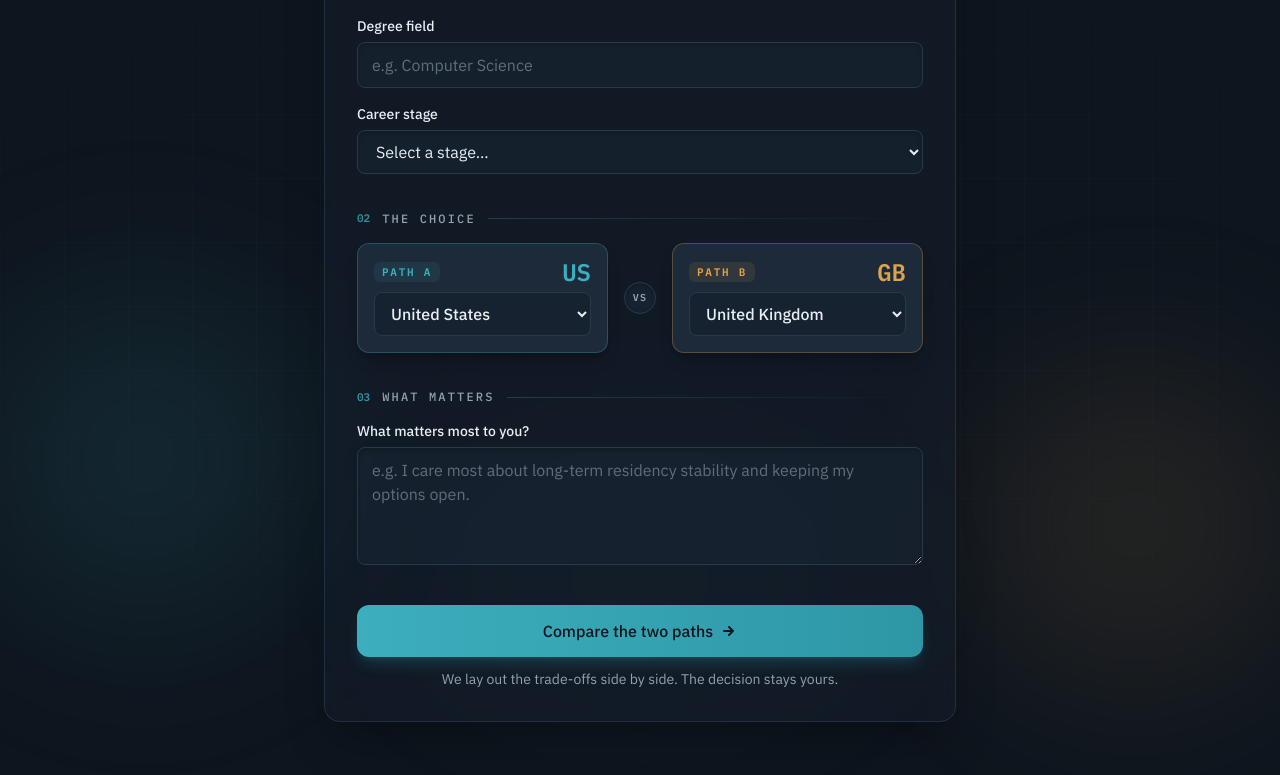
it: IntakePage › blocks submit and shows errors when required fields are empty
(page scrolled)
Click the button "Compare the two paths".
click(640, 631)  # box [357,605,923,657]
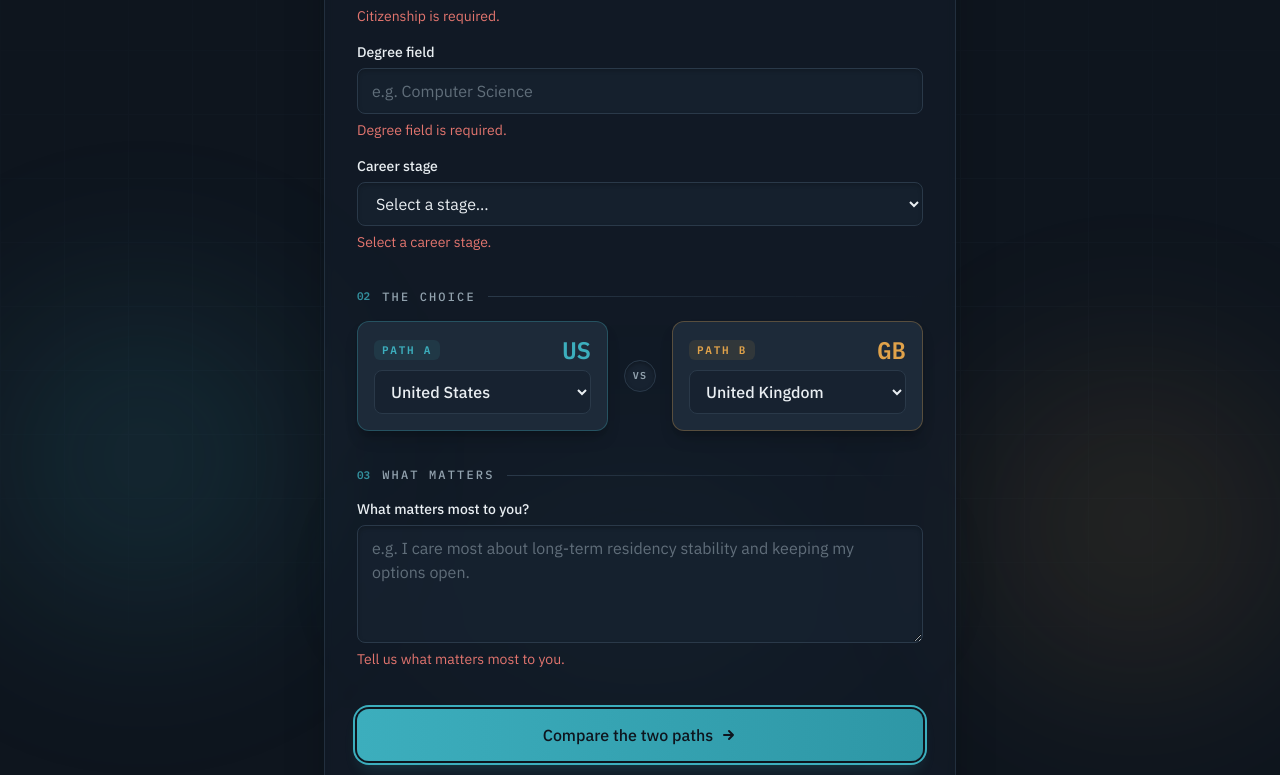
Expected: the text "Citizenship is required." is shown, [357,7,500,25]
Expected: the text "Degree field is required." is shown, [357,121,507,139]
Expected: the text "Select a career stage." is shown, [357,233,491,251]
